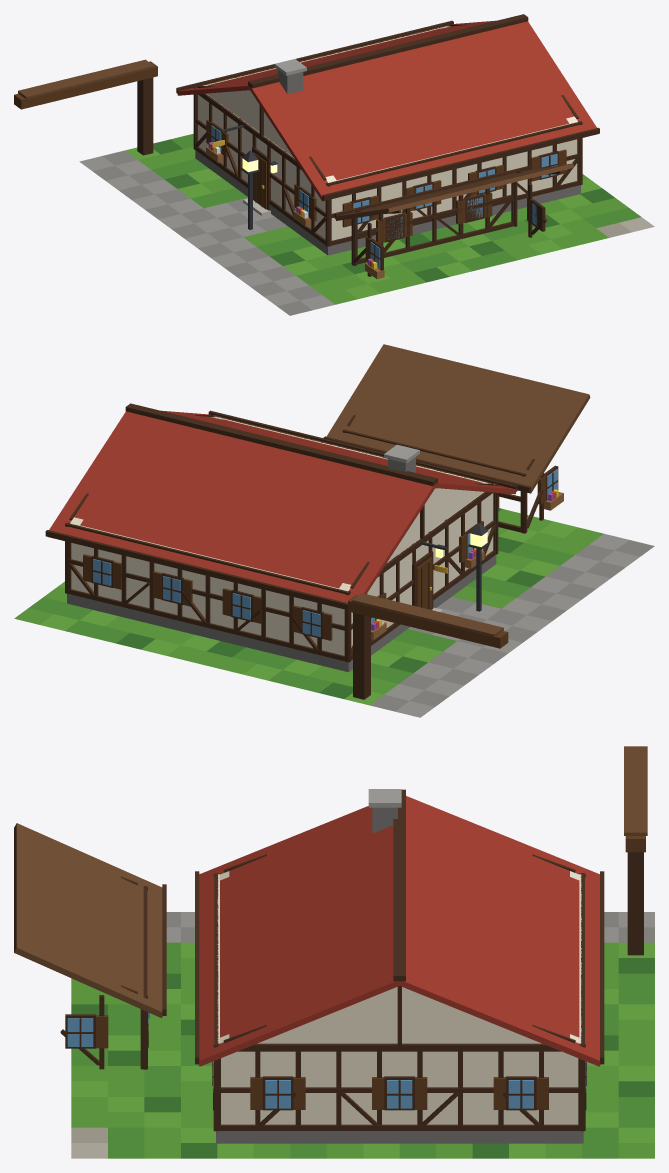
Rendered from chunk_2_6.glb.
3 renders of one model, top to bottom at view 1: azimuth 30°, elevation 25°; view 2: azimuth 150°, elevation 25°; view 3: azimuth 270°, elevation 25°, orthographic. The views are drawn at different scales.
Parts seen in each view (by area): view 1: chunk_2_6; view 2: chunk_2_6; view 3: chunk_2_6.
Boxes of the visible parts, box(x1,y1,x2,y2) form: chunk_2_6: box(14, 14, 654, 315); chunk_2_6: box(14, 344, 654, 717); chunk_2_6: box(14, 746, 654, 1158).
Bounding box in the file's own units: 19 × 5.84 × 17.57.
